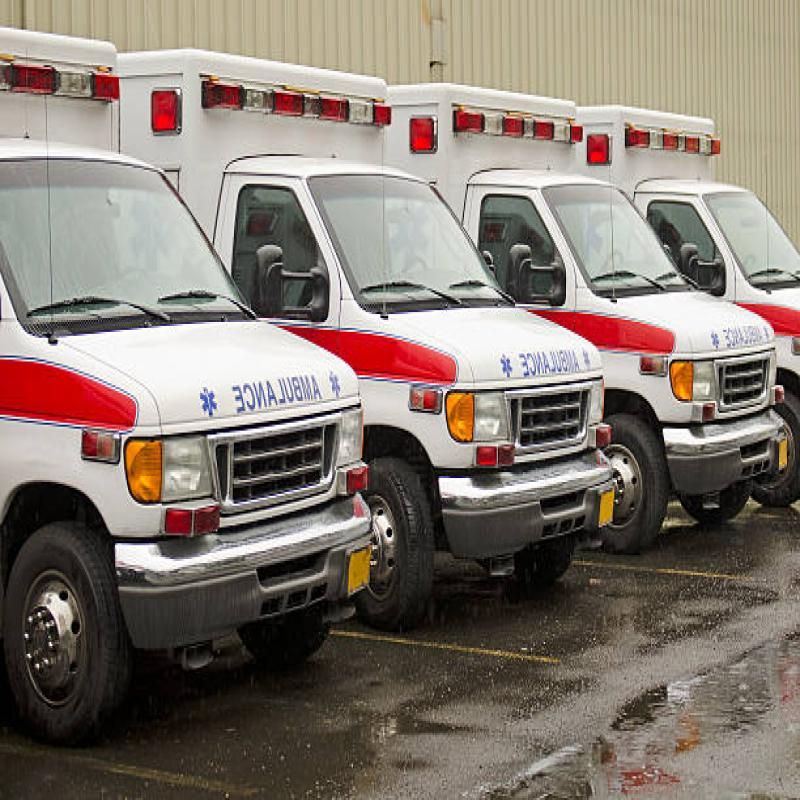ambulance: (0, 6, 381, 733), (363, 9, 624, 591)
